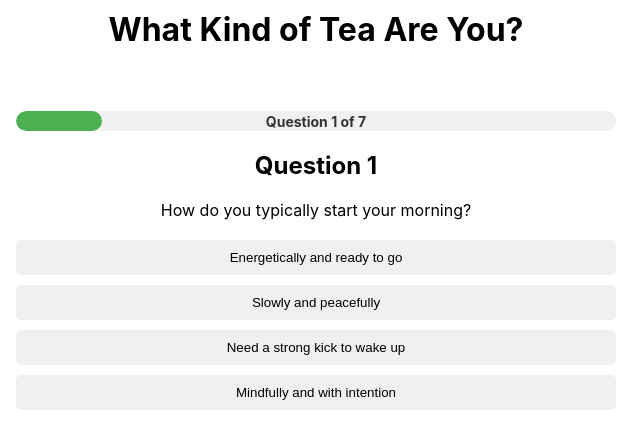
Test: Tea Personality Quiz › should move to next question when answer is selected
The image size is (633, 427).
Click the button with class "option-button" showing "Energetically and ready to go" at (316, 258), box x1=16 y1=240 x2=616 y2=275
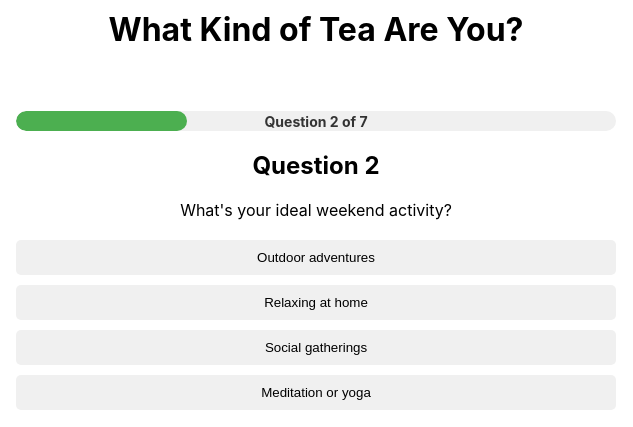
Check: the heading "Question 2" is shown, box x1=252 y1=151 x2=380 y2=180
